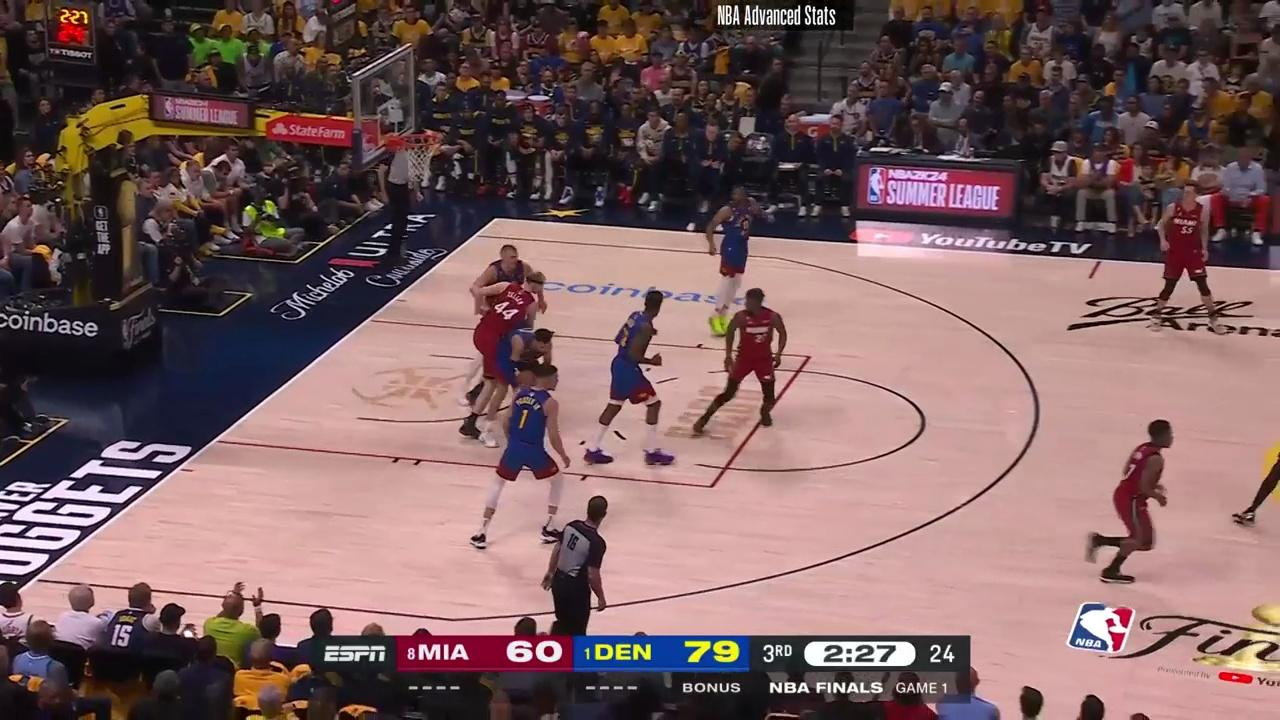Backboard: (355, 52, 415, 158)
Ball: (515, 369, 535, 387)
Basket: (396, 133, 441, 172)
Person: (466, 364, 578, 549), (1086, 412, 1176, 591), (591, 291, 675, 469), (702, 285, 793, 440), (463, 269, 545, 438), (1145, 180, 1223, 338), (701, 190, 761, 339), (484, 322, 559, 428), (471, 242, 537, 284)
Referee: (542, 492, 612, 639), (378, 137, 423, 254)
Shot Clock: (33, 0, 99, 80), (326, 0, 361, 61)
